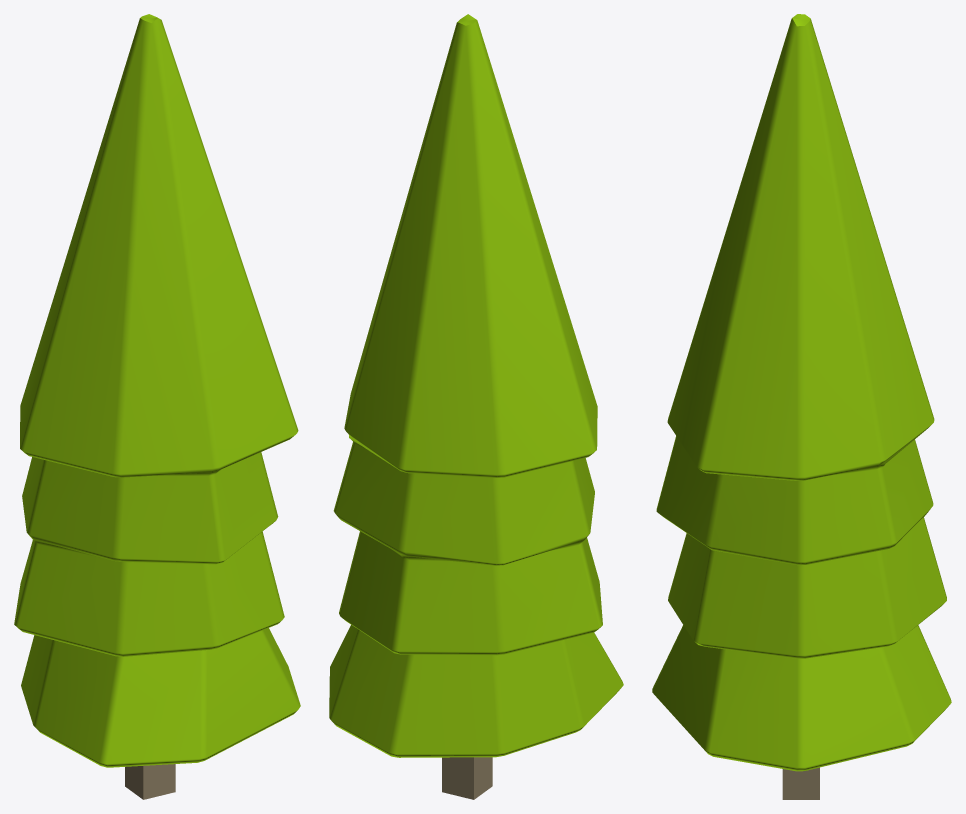
The model's file is pine_skewed_1_bevel.fbx.
3 renders of one model, left to right at view 1: azimuth 30°, elevation 25°; view 2: azimuth 150°, elevation 25°; view 3: azimuth 270°, elevation 25°, orthographic.
Visible parts, largest first — view 1: pine_skewed_1_bevel; view 2: pine_skewed_1_bevel; view 3: pine_skewed_1_bevel.
Part boxes in pixels (left/top/right/bottom): pine_skewed_1_bevel: left=14, top=14, right=300, bottom=799; pine_skewed_1_bevel: left=329, top=14, right=623, bottom=799; pine_skewed_1_bevel: left=652, top=14, right=951, bottom=799.
Bounding box in the file's own units: 111 × 303 × 106.
